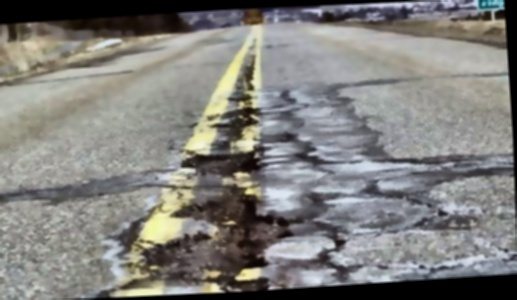pothole: (145, 187, 302, 297), (178, 147, 266, 178)
